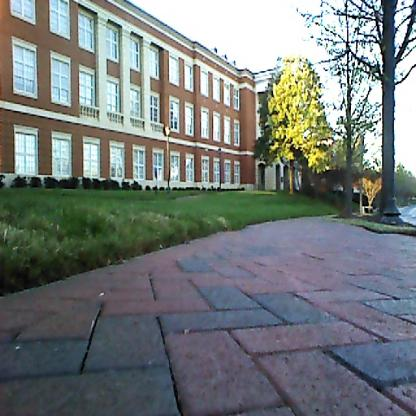Edge: (1, 220, 235, 322)
Sidewalk: (0, 217, 416, 416)
